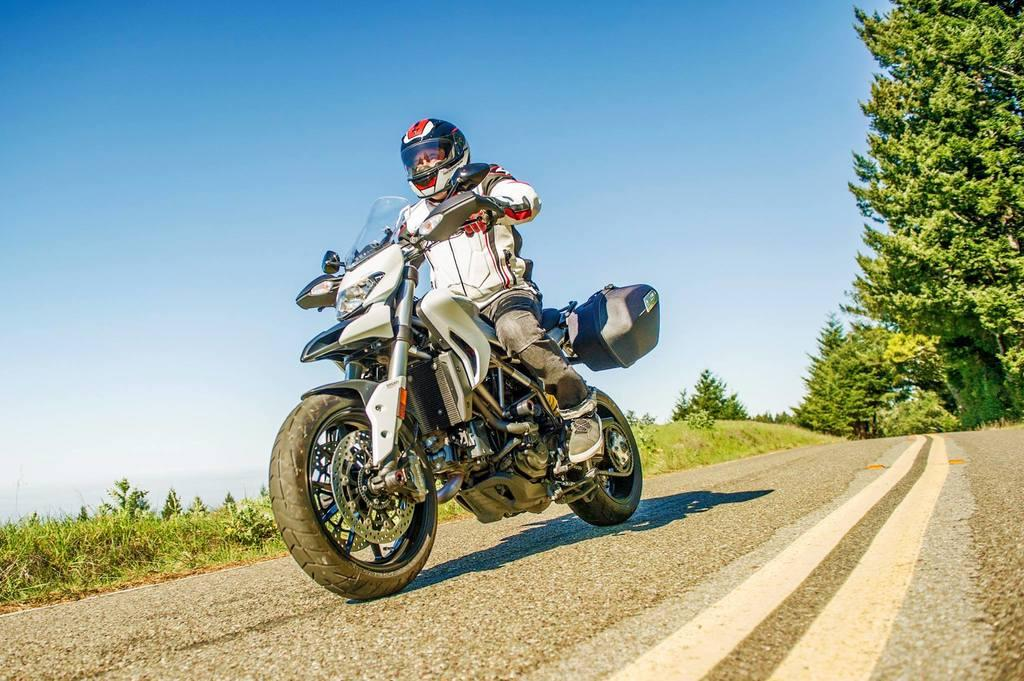helmet: (400, 118, 471, 199)
